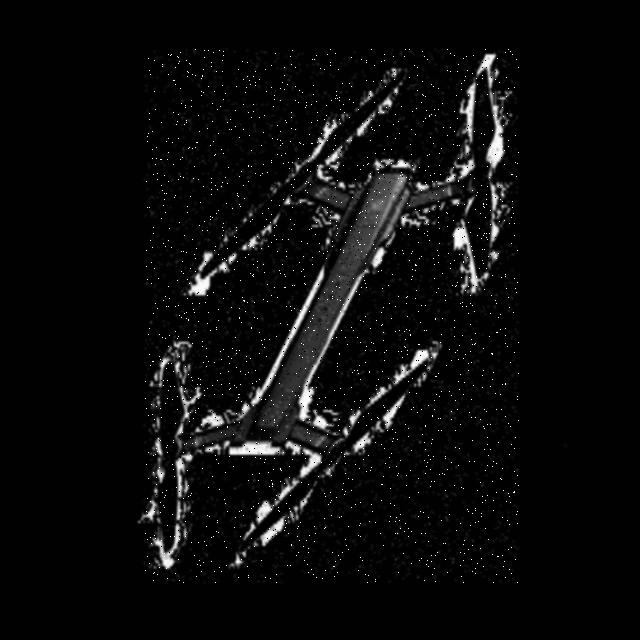drone: (146, 50, 520, 584)
